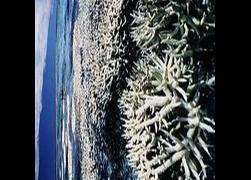bleached_corals: (74, 0, 216, 180)
